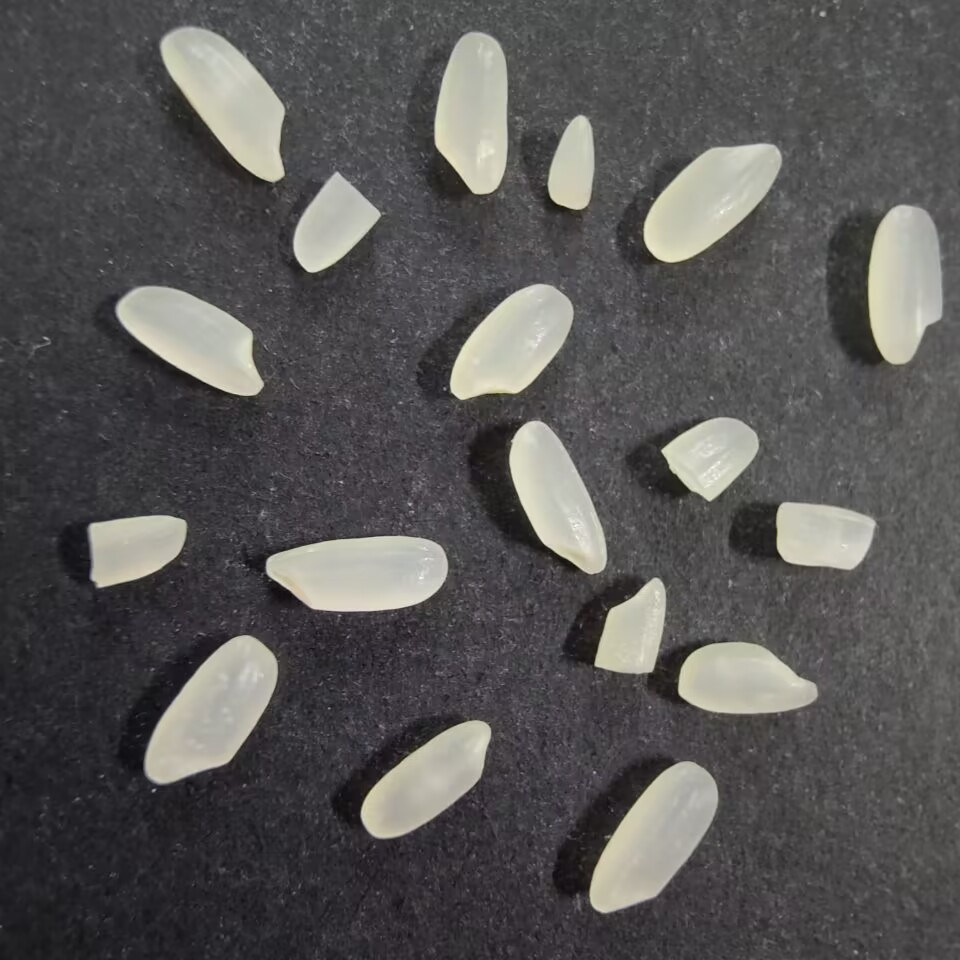broken: (288, 168, 383, 274), (657, 412, 764, 505), (83, 510, 192, 595), (768, 496, 882, 574), (591, 576, 668, 676), (544, 112, 603, 214)
rice: (139, 630, 284, 790), (155, 25, 293, 186), (585, 757, 721, 919), (112, 283, 267, 403), (641, 138, 783, 265), (355, 717, 495, 844), (257, 529, 456, 614), (509, 419, 611, 577), (445, 282, 578, 403), (863, 202, 947, 368), (431, 28, 512, 198), (671, 640, 823, 720)
